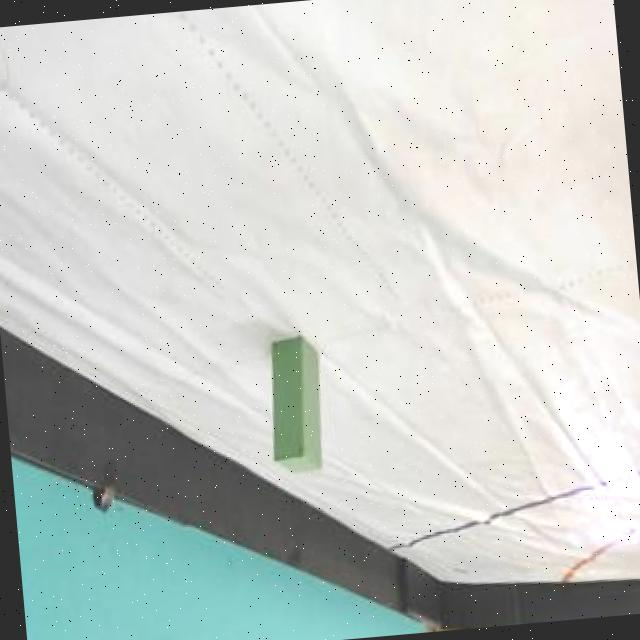greenbox: (264, 333, 332, 477)
